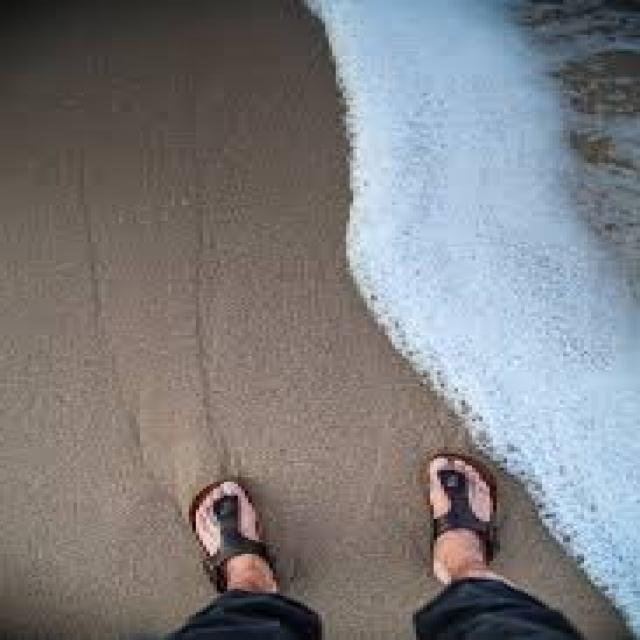No_Shoe: (425, 456, 508, 580), (196, 478, 262, 594)
